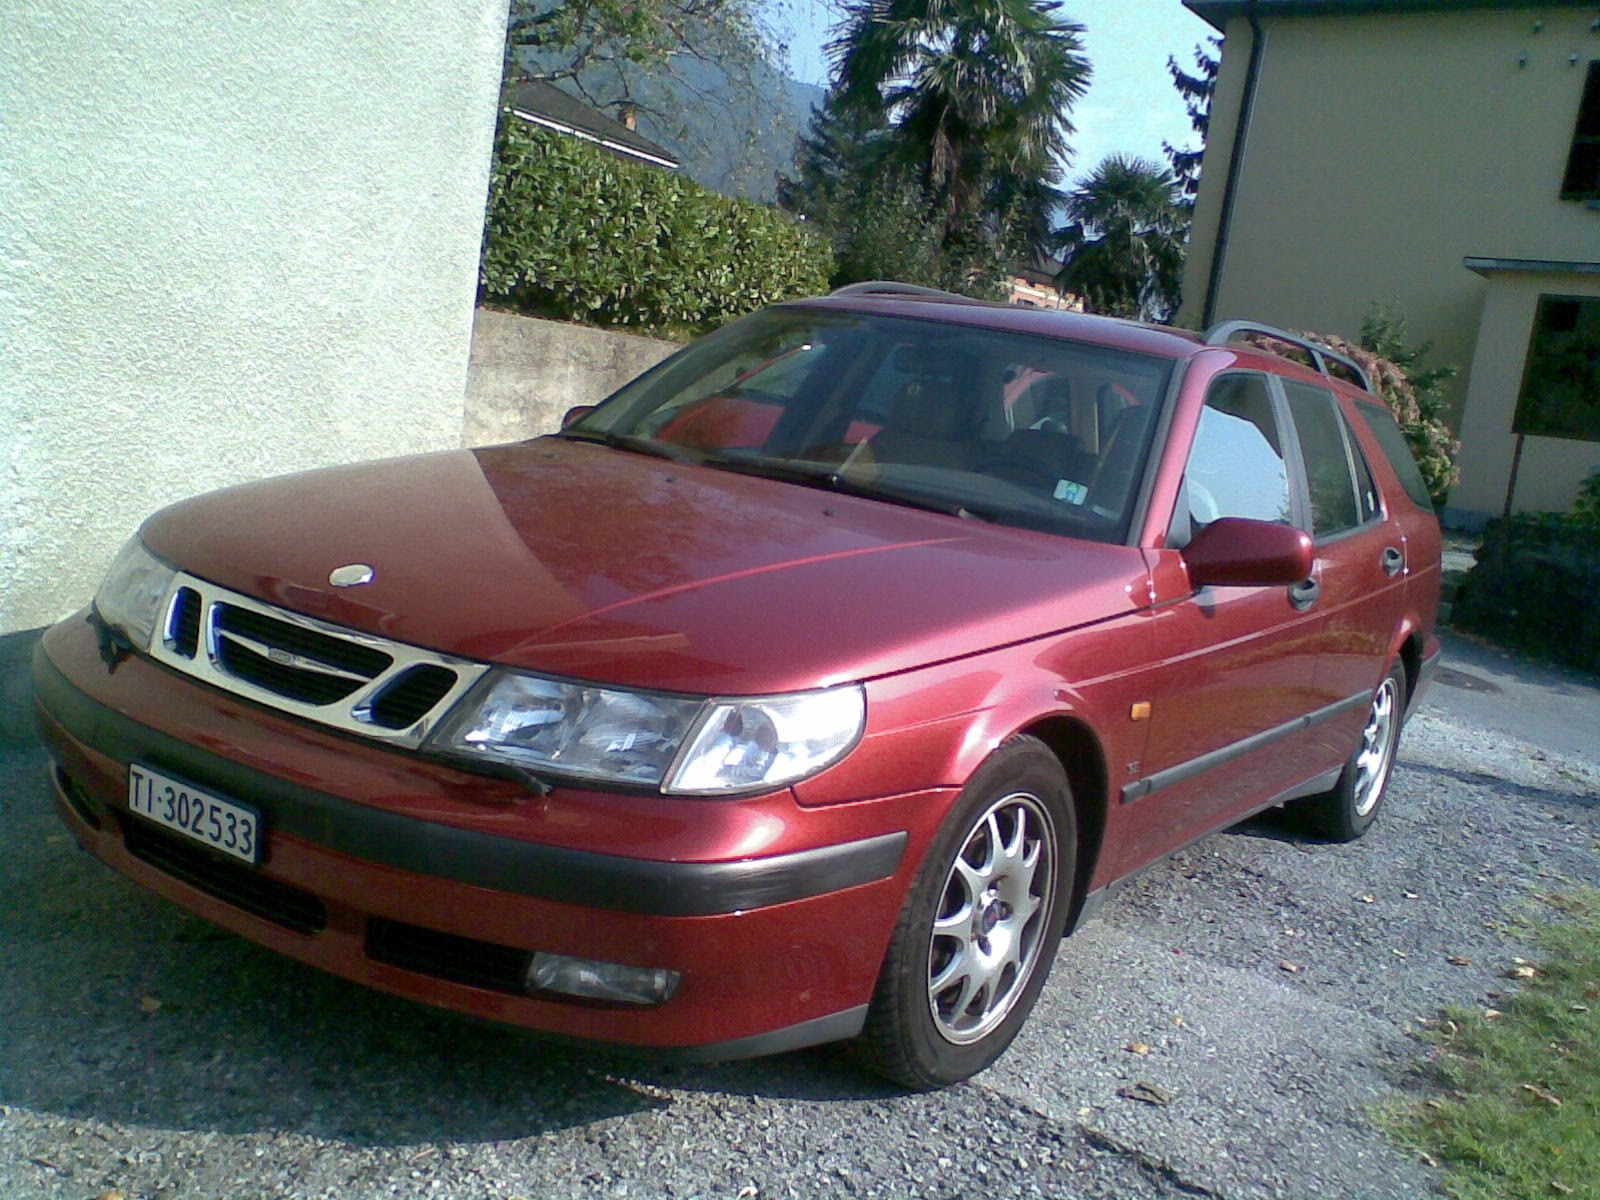car: (72, 248, 1448, 1105)
